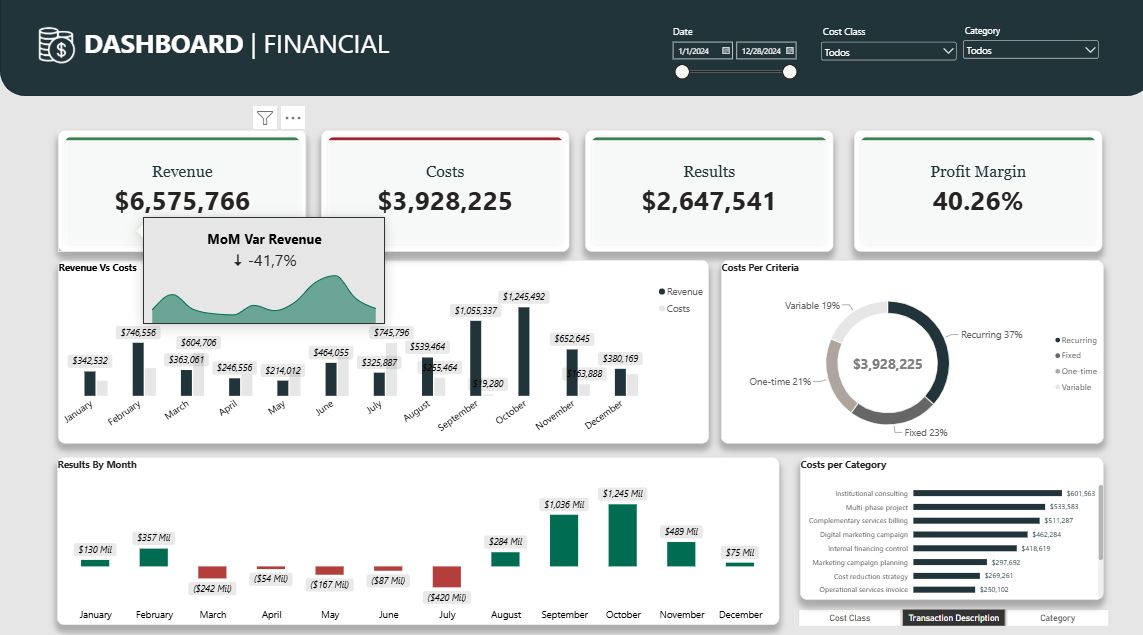

The page's visual inventory and layout, read from the dashboard file:
{"tool":"powerbi","page":{"name":"Financial","canvas":[1920,1080],"ordinal":0},"visuals":[{"type":"shape","box":[0,0,1920,166.7],"z":0},{"type":"textbox","box":[140,48.3,576.7,70],"z":1000},{"type":"image","box":[38.3,21.7,113.3,121.7],"z":2000},{"type":"cardVisual","fields":{"Data":["Financial Data.Results"]},"box":[974.6,223.2,414.3,202.8],"z":3000},{"type":"cardVisual","fields":{"Data":["Financial Data.Profit Margin"]},"box":[1424,223.2,414.3,202.8],"z":4000},{"type":"donutChart","title":"Costs Per Criteria","fields":{"Category":["Financial Data.Cost Criteria"],"Y":["Financial Data.Costs"]},"box":[1202.2,440.6,637.6,306.4],"z":5000},{"type":"clusteredColumnChart","title":"Revenue Vs Costs","fields":{"Category":["Financial Data.Month Name"],"Y":["Financial Data.Revenue","Financial Data.Costs"]},"box":[96.3,440.6,1085.5,306.4],"z":6000},{"type":"clusteredColumnChart","title":"Results By Month","fields":{"Category":["Financial Data.Month Name"],"Y":["Financial Data.Results"]},"box":[94.8,768.9,1203.6,280.1],"z":7000},{"type":"slicer","fields":{"Values":["Financial Parameter.Financial Parameter"]},"box":[1311.6,1021.3,555.9,27.7],"z":8000},{"type":"clusteredBarChart","title":"Costs per Category","fields":{"Category":["Financial Data.Transaction Description"],"Y":["Financial Data.Costs"]},"box":[1333.5,768.9,506.3,237.8],"z":9000},{"type":"slicer","fields":{"Values":["Financial Data.Cost Class"]},"box":[1364.1,48.1,236.4,70],"z":10000},{"type":"slicer","fields":{"Values":["Financial Data.Category"]},"box":[1600,47.1,236.4,70],"z":11000},{"type":"cardVisual","fields":{"Data":["Financial Data.Revenue"]},"box":[96.3,223.2,414.3,202.8],"z":12000},{"type":"slicer","fields":{"Values":["Financial Data.Date"]},"box":[1114,48,219,150],"z":13000},{"type":"cardVisual","fields":{"Data":["Financial Data.Costs"]},"box":[535.7,222.9,414.3,202.8],"z":14000}]}

Visuals, with their boxes in screenshot pixels (x1, y1, x2, y2), scaled from the page's 1920x1080 canvas onto the 1143x635 screenshot:
shape: [x1=0, y1=0, x2=1142, y2=98]
textbox: [x1=83, y1=28, x2=427, y2=70]
image: [x1=23, y1=13, x2=90, y2=84]
cardVisual - Financial Data.Results: [x1=580, y1=131, x2=827, y2=250]
cardVisual - Financial Data.Profit Margin: [x1=848, y1=131, x2=1094, y2=250]
"Costs Per Criteria" donutChart: [x1=716, y1=259, x2=1095, y2=439]
"Revenue Vs Costs" clusteredColumnChart: [x1=57, y1=259, x2=704, y2=439]
"Results By Month" clusteredColumnChart: [x1=56, y1=452, x2=773, y2=617]
slicer - Financial Parameter.Financial Parameter: [x1=781, y1=600, x2=1112, y2=617]
"Costs per Category" clusteredBarChart: [x1=794, y1=452, x2=1095, y2=592]
slicer - Financial Data.Cost Class: [x1=812, y1=28, x2=953, y2=69]
slicer - Financial Data.Category: [x1=952, y1=28, x2=1093, y2=69]
cardVisual - Financial Data.Revenue: [x1=57, y1=131, x2=304, y2=250]
slicer - Financial Data.Date: [x1=663, y1=28, x2=794, y2=116]
cardVisual - Financial Data.Costs: [x1=319, y1=131, x2=566, y2=250]
